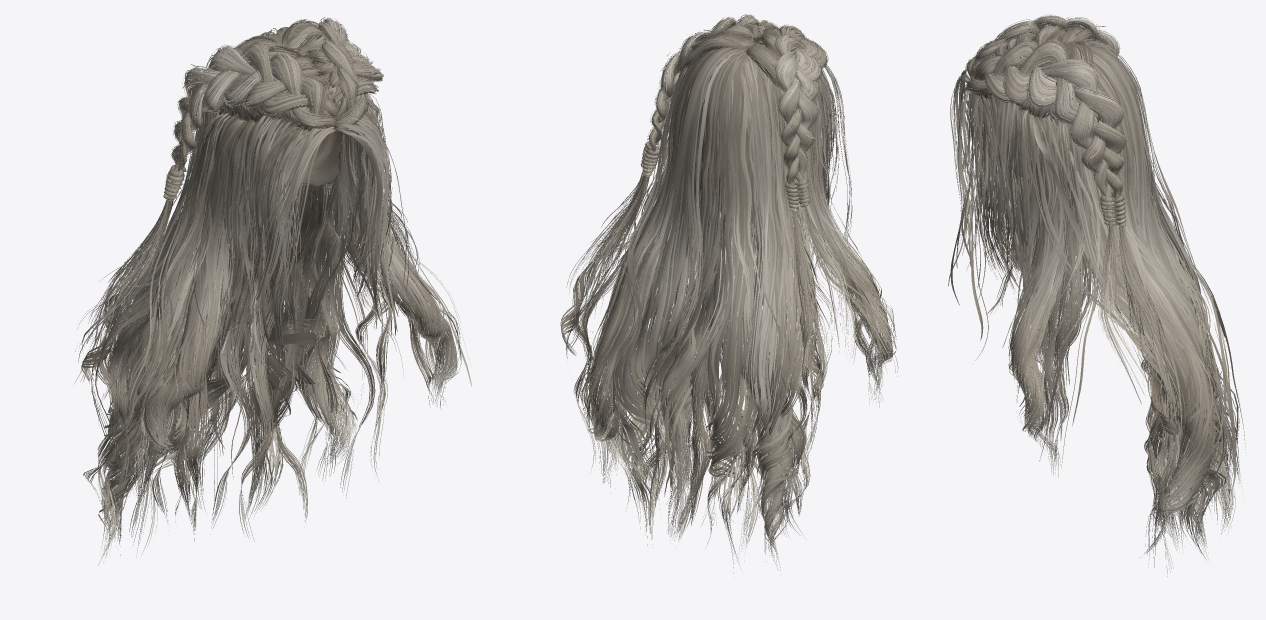
File: dint_hair_10.glb
3 views of the same model, side by side, from view 1: azimuth 30°, elevation 25°; view 2: azimuth 150°, elevation 25°; view 3: azimuth 270°, elevation 25° (orthographic). The views are drawn at different scales.
Parts seen in each view (by area): view 1: 1base10_1base10, 1spring2_1spring2, 1light1_1light1, 1spring1_1spring1, 1br2_1br2, 1br1_1br1, 1light3_1light3, 1br_R1_1br_R1, 1br_R2_1br_R2, 1light2_1light2, Hl_Hl, 1br_R3_1br_R3 (+1 smaller); view 2: 1spring2_1spring2, 1base10_1base10, 1spring1_1spring1, 1light2_1light2, 1br2_1br2, 1br1_1br1, 1light1_1light1, 1br_R2_1br_R2, 1br_R1_1br_R1, 1br_R3_1br_R3, 1br3_1br3; view 3: 1spring2_1spring2, 1light3_1light3, 1spring1_1spring1, 1base10_1base10, 1br_R2_1br_R2, 1light2_1light2, 1br_R1_1br_R1, 1br1_1br1, 1light1_1light1, 1br2_1br2, 1br3_1br3, 1br_R3_1br_R3.
Boxes of the visible parts, left/top/right/bottom form: 1base10_1base10: left=81, top=45, right=446, bottom=557; 1spring2_1spring2: left=98, top=37, right=457, bottom=565; 1light1_1light1: left=98, top=83, right=335, bottom=437; 1spring1_1spring1: left=98, top=27, right=461, bottom=539; 1br2_1br2: left=74, top=41, right=336, bottom=384; 1br1_1br1: left=163, top=40, right=335, bottom=200; 1light3_1light3: left=297, top=48, right=471, bottom=386; 1br_R1_1br_R1: left=282, top=19, right=381, bottom=129; 1br_R2_1br_R2: left=289, top=17, right=419, bottom=313; 1light2_1light2: left=91, top=28, right=395, bottom=500; Hl_Hl: left=212, top=48, right=359, bottom=203; 1br_R3_1br_R3: left=282, top=19, right=354, bottom=118; 1spring2_1spring2: left=589, top=47, right=892, bottom=574; 1base10_1base10: left=560, top=45, right=883, bottom=578; 1spring1_1spring1: left=579, top=39, right=896, bottom=548; 1light2_1light2: left=565, top=43, right=818, bottom=525; 1br2_1br2: left=757, top=24, right=856, bottom=404; 1br1_1br1: left=746, top=26, right=826, bottom=212; 1light1_1light1: left=772, top=64, right=898, bottom=376; 1br_R2_1br_R2: left=566, top=14, right=778, bottom=348; 1br_R1_1br_R1: left=640, top=16, right=776, bottom=176; 1br_R3_1br_R3: left=675, top=24, right=773, bottom=71; 1br3_1br3: left=746, top=27, right=798, bottom=92; 1spring2_1spring2: left=1011, top=41, right=1241, bottom=559; 1light3_1light3: left=950, top=83, right=1100, bottom=465; 1spring1_1spring1: left=1008, top=38, right=1239, bottom=516; 1base10_1base10: left=1030, top=44, right=1235, bottom=576; 1br_R2_1br_R2: left=965, top=39, right=1185, bottom=435; 1light2_1light2: left=1022, top=33, right=1245, bottom=533; 1br_R1_1br_R1: left=966, top=41, right=1125, bottom=227; 1br1_1br1: left=967, top=16, right=1118, bottom=77; 1light1_1light1: left=948, top=69, right=1072, bottom=286; 1br2_1br2: left=965, top=14, right=1155, bottom=206; 1br3_1br3: left=971, top=25, right=1094, bottom=71; 1br_R3_1br_R3: left=969, top=40, right=1094, bottom=109.
Size of the model in its own units: 0.5216 by 0.7057 by 0.3598.
13 materials, 13 textured.
